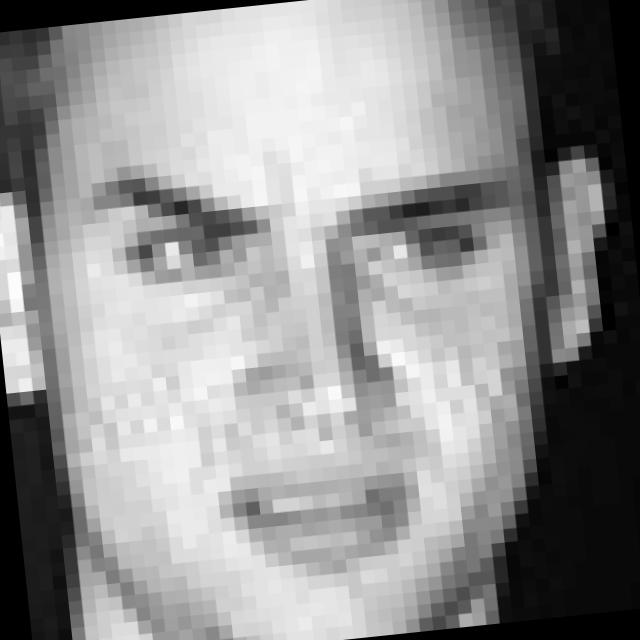disgust: (73, 131, 542, 598)
